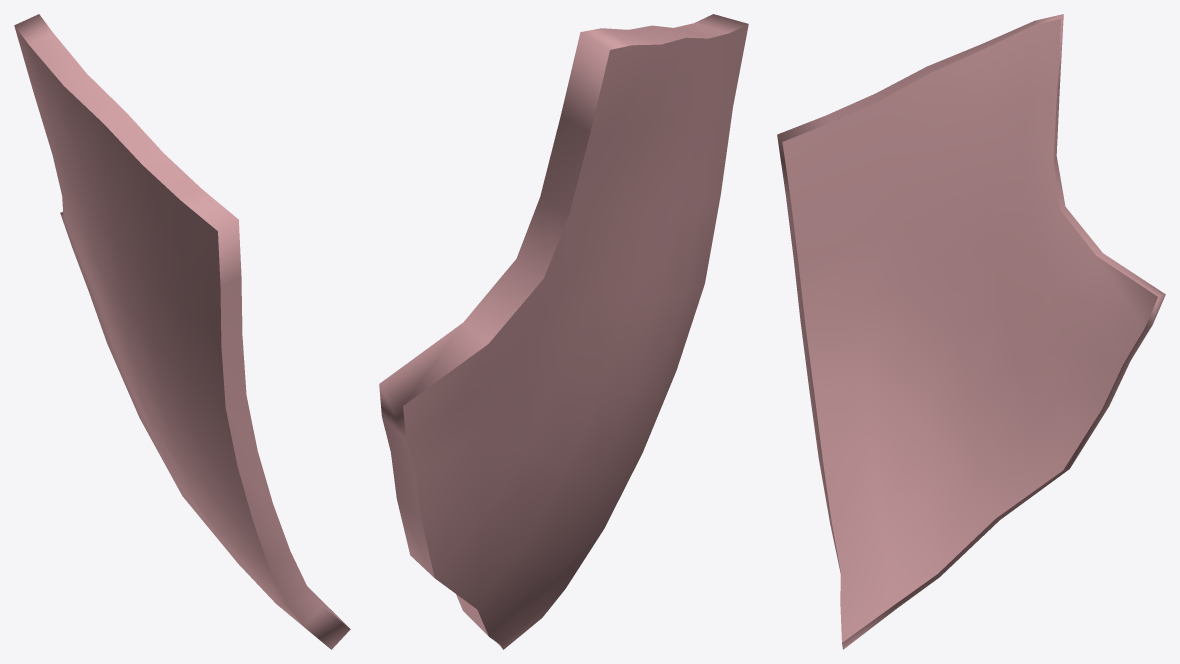
The picture shows the model from 3 angles, left to right: view 1: azimuth 30°, elevation 25°; view 2: azimuth 150°, elevation 25°; view 3: azimuth 270°, elevation 25°; orthographic projection. The views are drawn at different scales.
Parts seen in each view (by area): view 1: ZA_b1ed1b984ab6ebe7; view 2: ZA_b1ed1b984ab6ebe7; view 3: ZA_b1ed1b984ab6ebe7.
Part boxes in pixels (<box>): ZA_b1ed1b984ab6ebe7: <box>14,14,350,649</box>; ZA_b1ed1b984ab6ebe7: <box>379,14,748,649</box>; ZA_b1ed1b984ab6ebe7: <box>777,14,1165,649</box>.
Size of the model in its own units: 0.0267 by 0.0692 by 0.0442.
